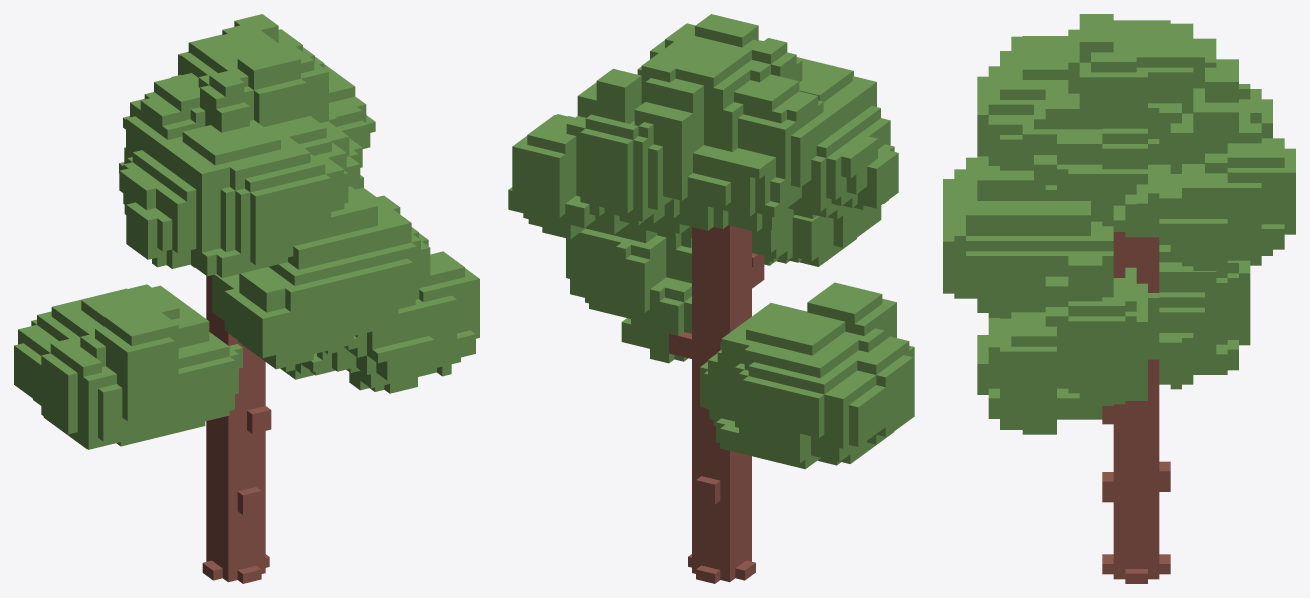
The model's file is arvores-0.obj.
3 renders of one model, left to right at view 1: azimuth 30°, elevation 25°; view 2: azimuth 150°, elevation 25°; view 3: azimuth 270°, elevation 25°, orthographic. The views are drawn at different scales.
Bounding box in the file's own units: 3.8 × 5.3 × 3.1.
1 material, 1 textured.
